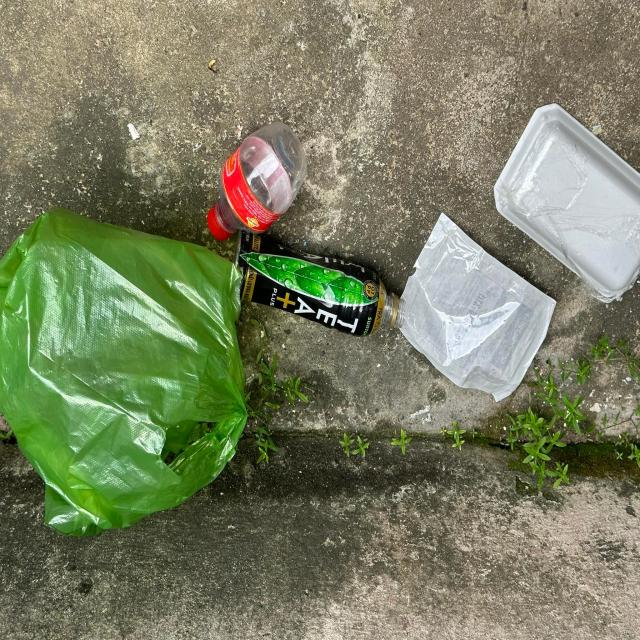bag: (0, 206, 249, 536)
bottle: (234, 231, 405, 339), (207, 121, 307, 242)
foam box: (493, 102, 640, 300)
packet: (399, 212, 558, 402)
